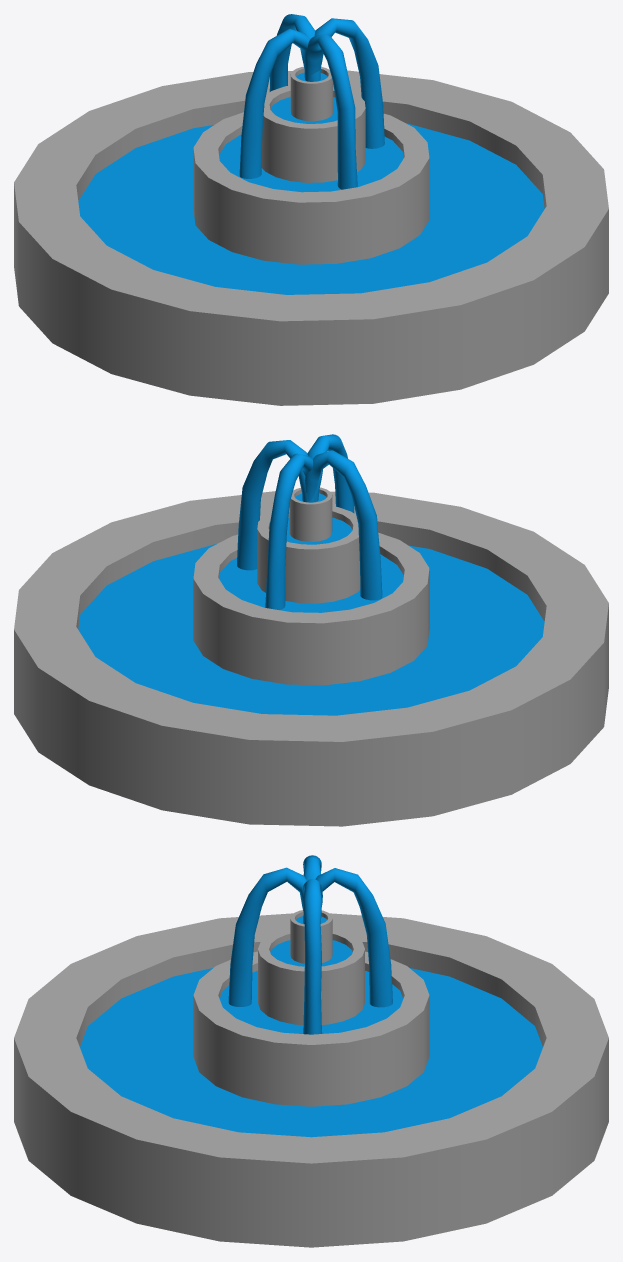
Rendered from FountainPlaceholder.fbx.
3 renders of one model, top to bottom at view 1: azimuth 30°, elevation 25°; view 2: azimuth 150°, elevation 25°; view 3: azimuth 270°, elevation 25°, orthographic.
Parts seen in each view (by area): view 1: pTorus5; view 2: pTorus5; view 3: pTorus5.
Part boxes in pixels (bbox=[...]): pTorus5: bbox=[14, 14, 608, 405]; pTorus5: bbox=[14, 434, 608, 826]; pTorus5: bbox=[14, 855, 608, 1247].
Size of the model in its own units: 10.96 by 5.16 by 10.96.
